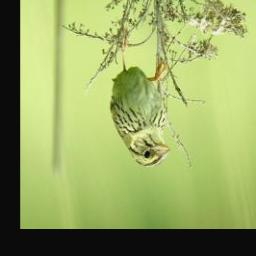Sparrow: (109, 31, 171, 168)
